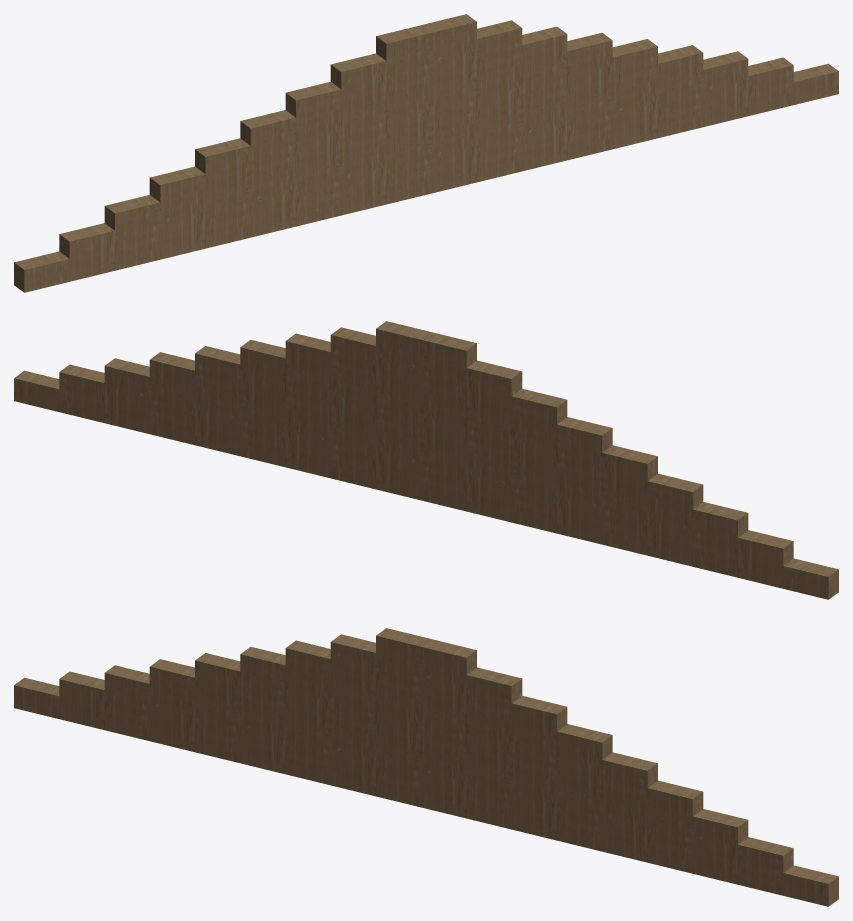
The model's file is build_gable.glb.
The picture shows the model from 3 angles, top to bottom: view 1: azimuth 30°, elevation 25°; view 2: azimuth 150°, elevation 25°; view 3: azimuth 330°, elevation 25°; orthographic projection.
Parts seen in each view (by area): view 1: Timber gable; view 2: Timber gable; view 3: Timber gable.
Boxes of the visible parts, x1=… form: Timber gable: x1=14, y1=14, x2=838, y2=292; Timber gable: x1=14, y1=321, x2=838, y2=599; Timber gable: x1=14, y1=628, x2=838, y2=906.
Size of the model in its own units: 9 by 1.7 by 0.2.
Materials: 1 (1 with a texture image).
